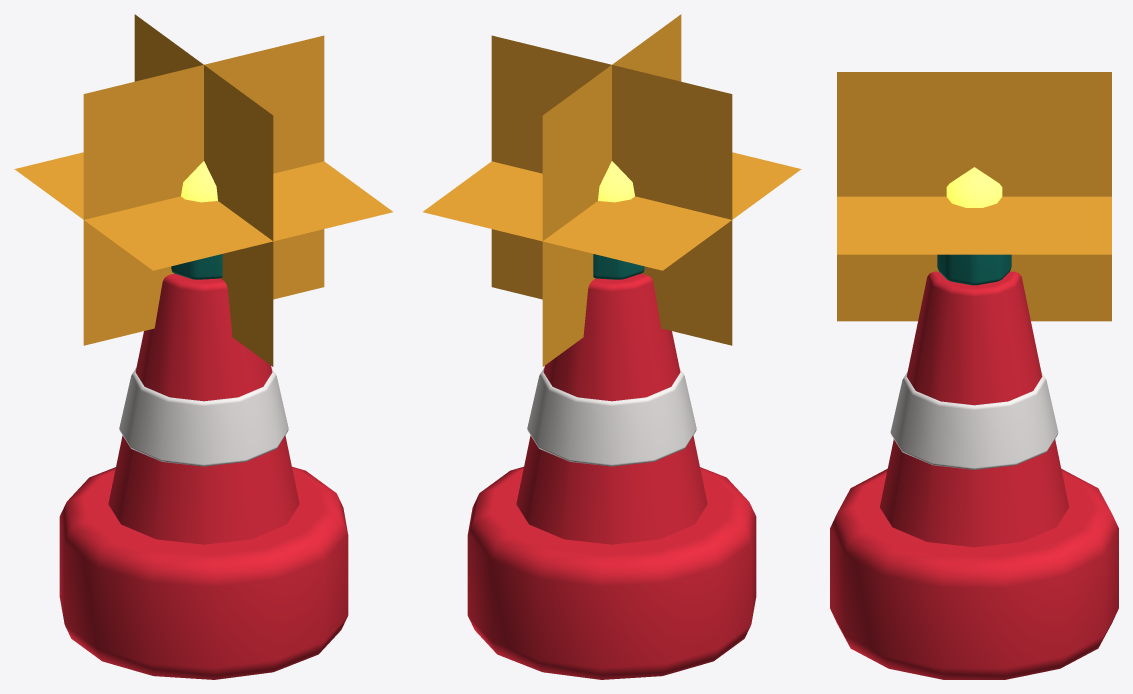
The model's file is buoy.glb.
3 views of the same model, side by side, from view 1: azimuth 30°, elevation 25°; view 2: azimuth 150°, elevation 25°; view 3: azimuth 270°, elevation 25° (orthographic).
Visible parts, largest first — view 1: Buoy; view 2: Buoy; view 3: Buoy.
Boxes of the visible parts, x1,y1,x2,y2 form: Buoy: (14, 14, 392, 679); Buoy: (423, 14, 801, 679); Buoy: (830, 72, 1118, 679).
Bounding box in the file's own units: 1.46 × 3.19 × 1.5.
